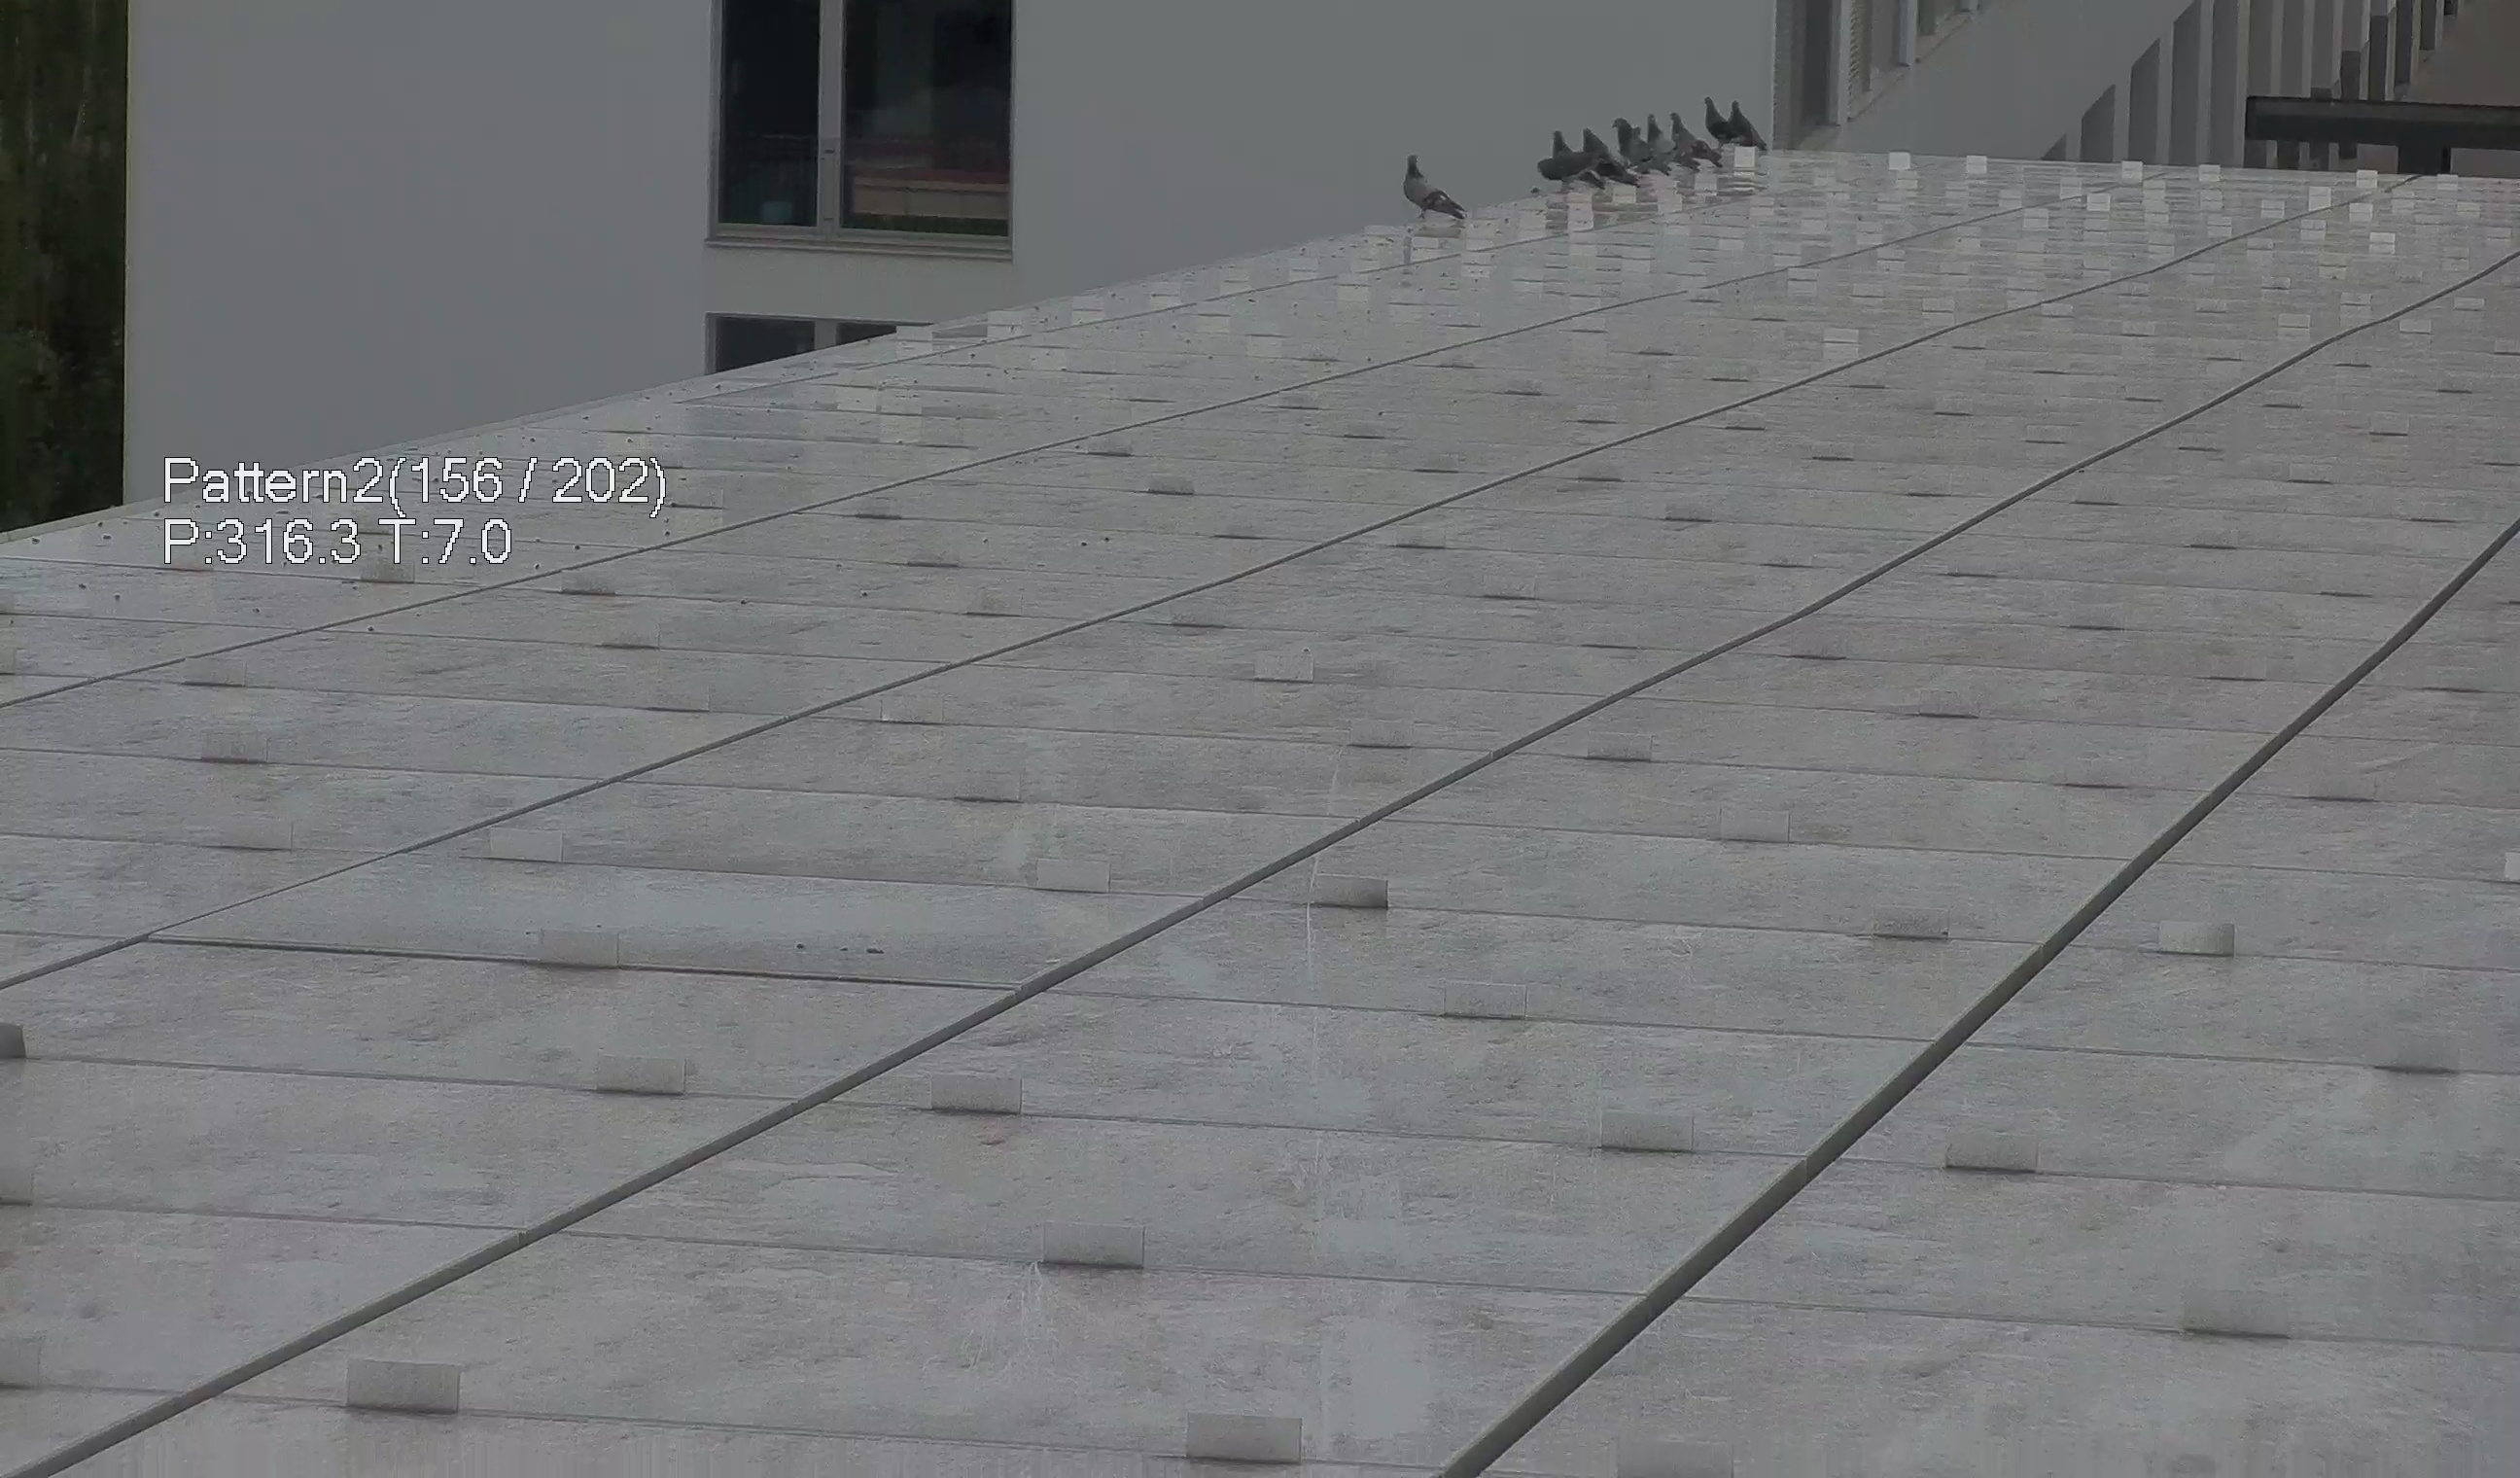Pigeon: (1396, 141, 1482, 229), (1533, 144, 1604, 192), (1611, 116, 1669, 172), (1669, 113, 1716, 165), (1729, 100, 1771, 150), (1706, 97, 1743, 150), (1648, 114, 1674, 160), (1579, 125, 1609, 151), (1548, 128, 1574, 155)
